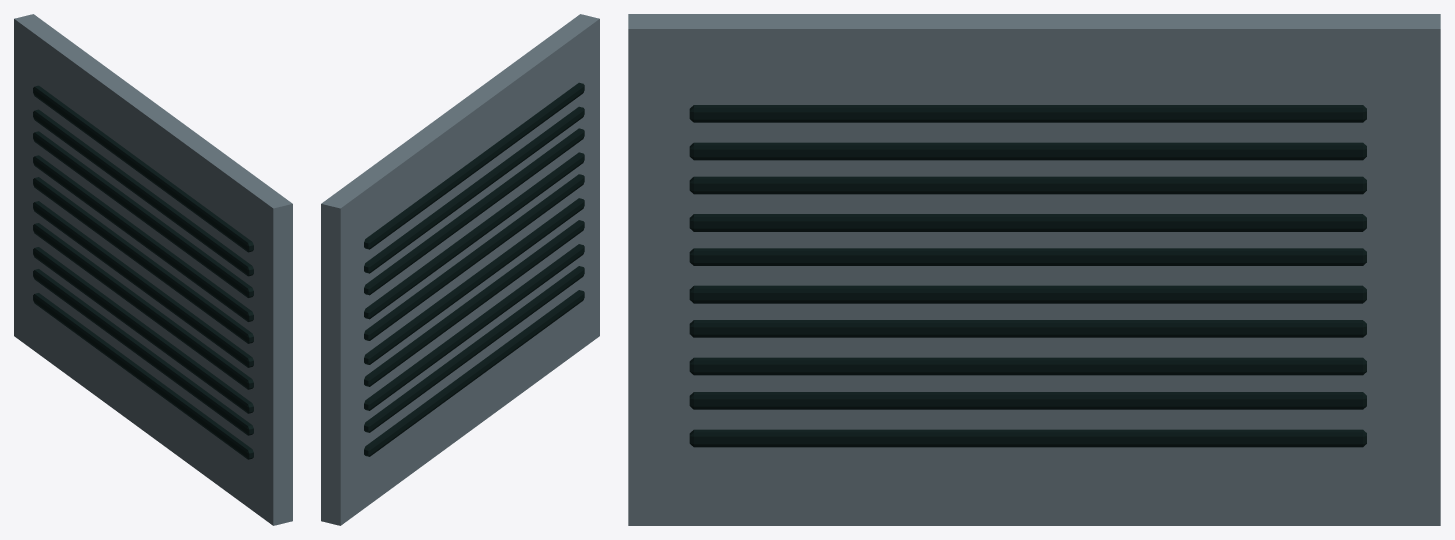
Rendered from plaka 15 emboss.fbx.
The picture shows the model from 3 angles, left to right: view 1: azimuth 30°, elevation 25°; view 2: azimuth 150°, elevation 25°; view 3: azimuth 270°, elevation 25°; orthographic projection. The views are drawn at different scales.
Parts seen in each view (by area): view 1: pCube450; view 2: pCube450; view 3: pCube450.
Boxes of the visible parts, left/top/right/bottom form: pCube450: left=14, top=14, right=292, bottom=525; pCube450: left=321, top=14, right=599, bottom=525; pCube450: left=628, top=14, right=1440, bottom=525.
Bounding box in the file's own units: 13.4 × 139 × 206.
